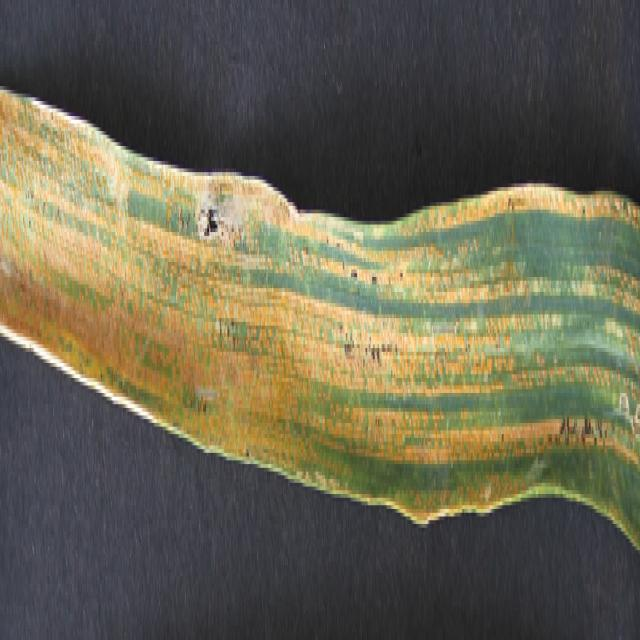leaf rust: (0, 11, 640, 516)
